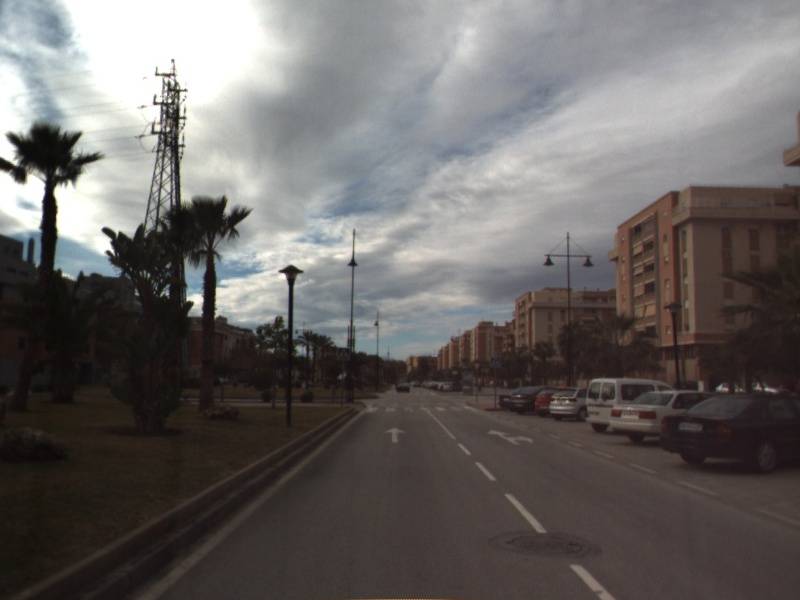STRAIGHT: (383, 425, 408, 444)
STRAIGHT_RIGHT: (485, 427, 534, 447)
